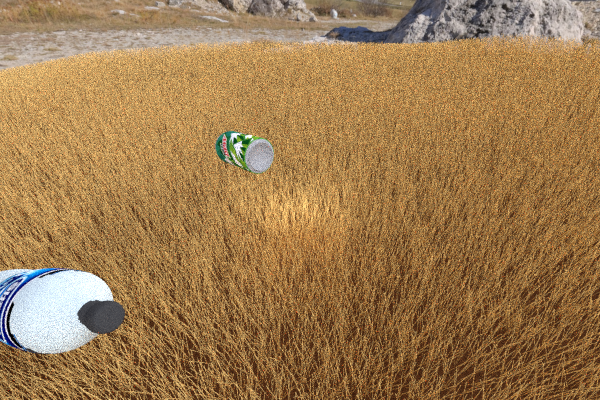Plastic Bottle: (0, 268, 124, 354), (406, 129, 473, 178), (214, 130, 273, 173)
